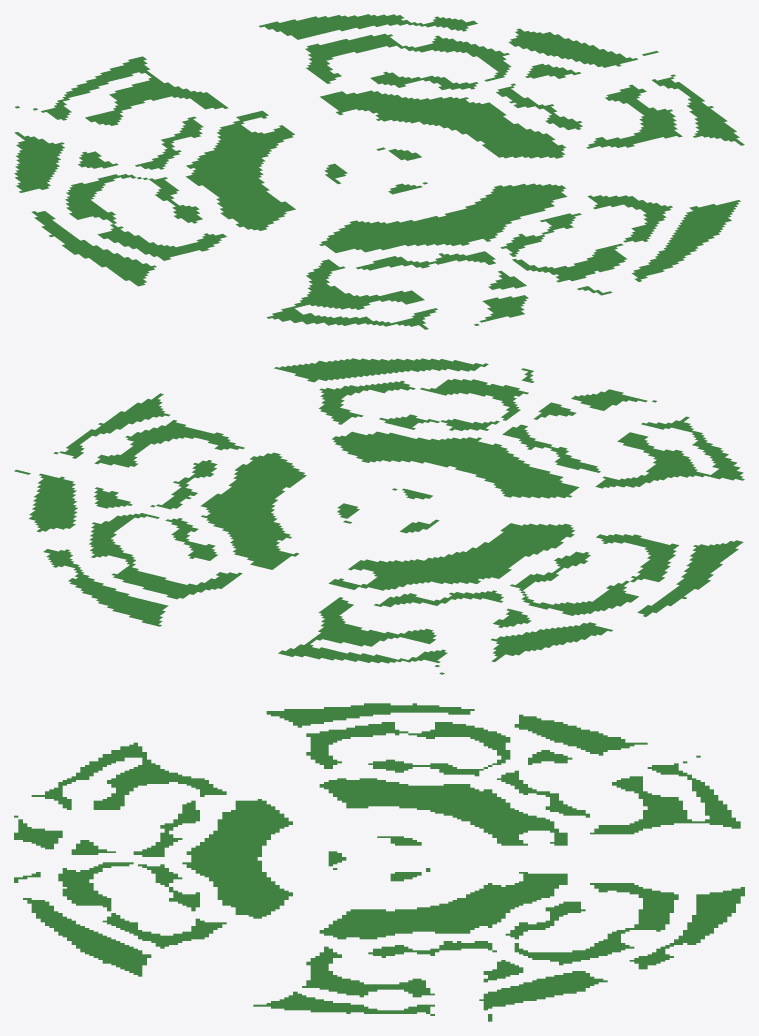
File: Inv-2-TreesArea.fbx
The picture shows the model from 3 angles, top to bottom: view 1: azimuth 30°, elevation 25°; view 2: azimuth 150°, elevation 25°; view 3: azimuth 270°, elevation 25°; orthographic projection. The views are drawn at different scales.
Parts seen in each view (by area): view 1: Inv-2-TreesArea; view 2: Inv-2-TreesArea; view 3: Inv-2-TreesArea.
Part boxes in pixels (x1=…): Inv-2-TreesArea: x1=14, y1=14, x2=744, y2=329; Inv-2-TreesArea: x1=14, y1=358, x2=744, y2=674; Inv-2-TreesArea: x1=14, y1=703, x2=744, y2=1021.
Bounding box in the file's own units: 170 × 0 × 165.
